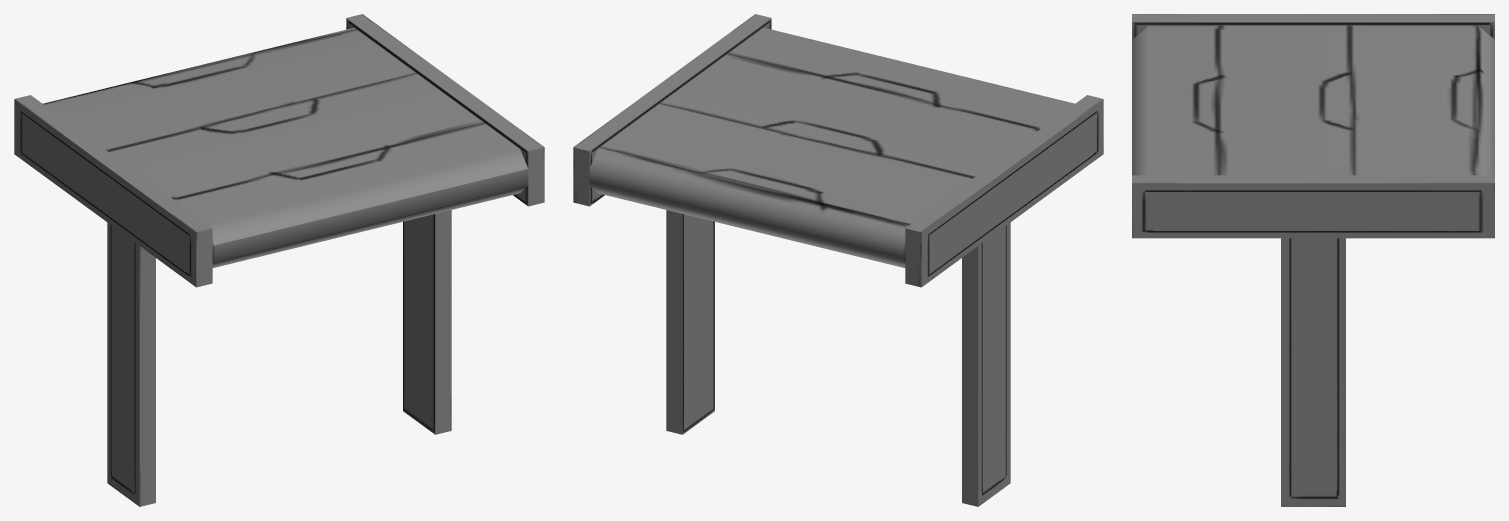
File: conveyor_x1.fbx
The picture shows the model from 3 angles, left to right: view 1: azimuth 30°, elevation 25°; view 2: azimuth 150°, elevation 25°; view 3: azimuth 270°, elevation 25°; orthographic projection.
Parts seen in each view (by area): view 1: conveyor_x1; view 2: conveyor_x1; view 3: conveyor_x1.
Boxes of the visible parts, x1,y1,x2,y2 form: conveyor_x1: [14, 14, 544, 506]; conveyor_x1: [573, 14, 1103, 506]; conveyor_x1: [1132, 14, 1494, 506].
Bounding box in the file's own units: 1.1 × 1 × 1.01.
